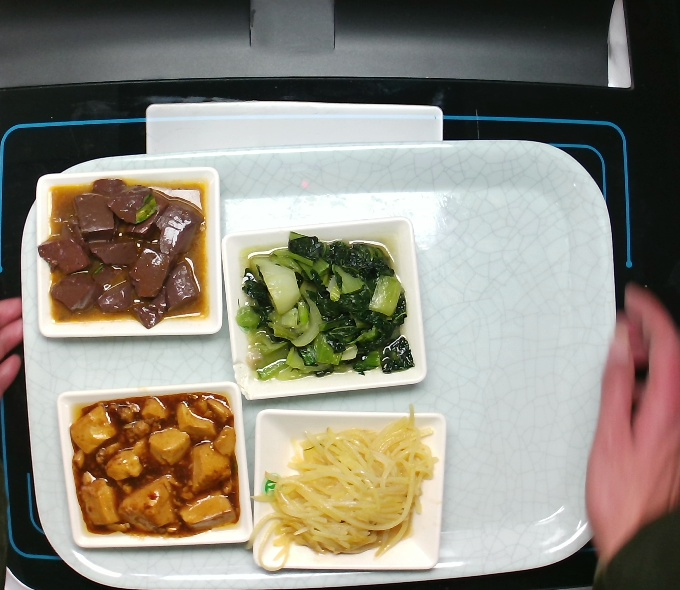wcq-MaPoDouFu: (70, 389, 245, 537)
wcq-NiuXue: (46, 181, 212, 338)
wcq-TuDouSi: (264, 409, 441, 567)
wcq-YouDongCai: (235, 232, 409, 377)
